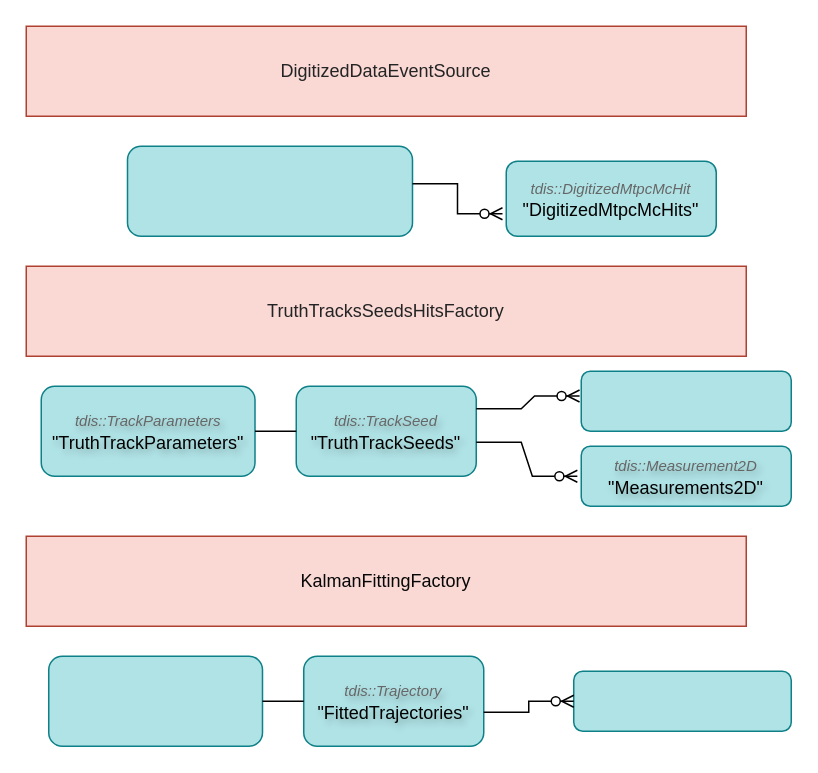
This 818x773 diagram has some shape labels left out. The shapes that lost their labels are listed below. From the top down, each one's box as (x1, y1, x2, y2) in pixels, then its label:
(126, 145, 412, 236): tdis::DigitizedMtpcMcTrack " DigitizedMtpcMcTracks"
(580, 370, 791, 431): tdis:: TrackerHit "TrackerHits "
(47, 655, 262, 746): tdis:: TrackParameters "FittedTrackParameters "
(572, 670, 791, 731): tdis::Track "FittedTracks "
